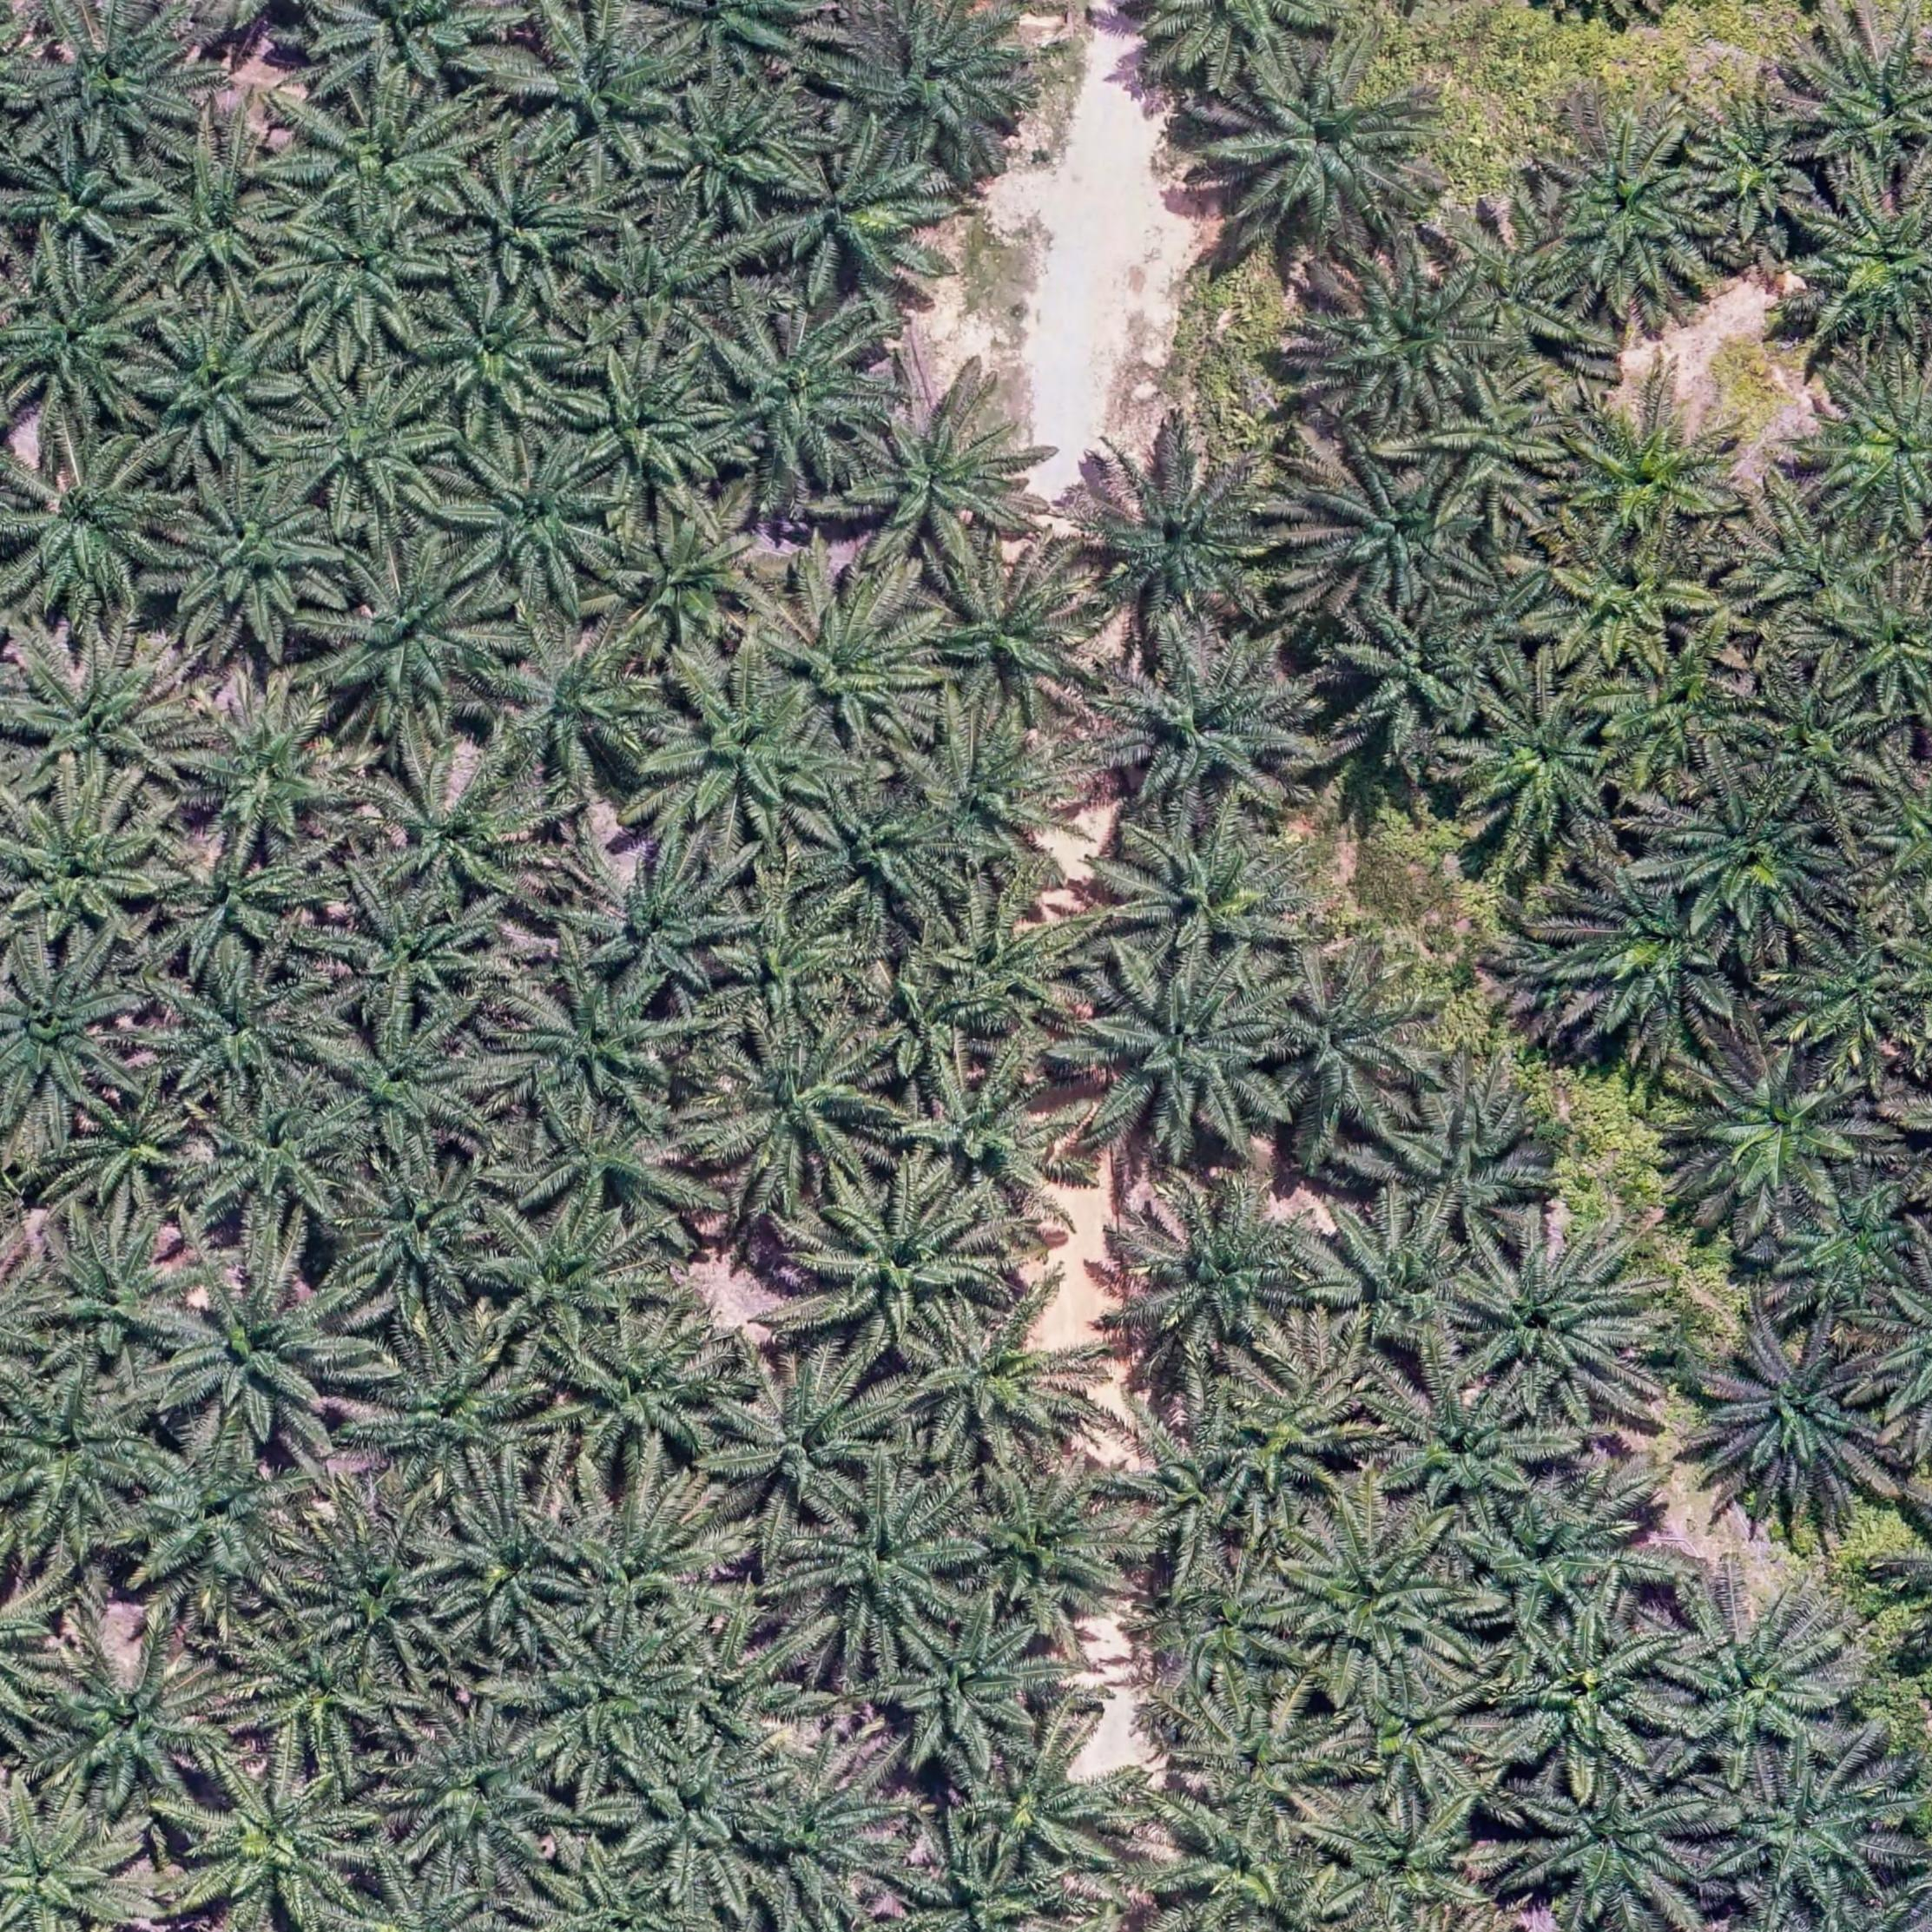palmtree: (1205, 37, 1440, 257), (1072, 957, 1293, 1168), (817, 373, 1037, 579), (1093, 635, 1320, 833), (1070, 444, 1293, 640), (1272, 1502, 1486, 1697), (695, 1012, 906, 1208), (793, 1171, 1001, 1368), (156, 1263, 364, 1458), (642, 662, 842, 858), (784, 1472, 985, 1667), (1652, 1585, 1854, 1780), (315, 545, 517, 738), (1132, 1180, 1339, 1368), (1453, 1226, 1656, 1415), (823, 4, 1040, 180), (35, 1626, 234, 1819), (1700, 1318, 1897, 1511), (895, 1293, 1102, 1474), (182, 1752, 389, 1930), (354, 1322, 550, 1507), (1486, 1606, 1684, 1789), (1683, 1040, 1881, 1221), (709, 306, 901, 492), (122, 1431, 318, 1610), (1709, 1750, 1913, 1920), (492, 964, 697, 1132), (548, 1307, 743, 1484), (1511, 1764, 1721, 1927), (718, 1350, 909, 1529), (1543, 119, 1721, 310), (497, 9, 692, 184), (895, 717, 1090, 892), (1555, 869, 1739, 1053), (380, 1707, 568, 1888), (1104, 814, 1307, 980), (9, 633, 200, 810), (1115, 1545, 1307, 1720), (1295, 448, 1497, 614), (1465, 1486, 1663, 1654), (918, 550, 1106, 727), (1546, 386, 1744, 552), (287, 1502, 471, 1681), (1378, 1081, 1562, 1260), (182, 681, 370, 856), (766, 575, 947, 755), (878, 1605, 1063, 1780), (1656, 775, 1844, 948), (1309, 255, 1499, 425), (957, 1723, 1145, 1893), (5, 441, 182, 619), (566, 842, 754, 1010), (892, 1056, 1079, 1224), (1263, 961, 1438, 1139), (1458, 679, 1637, 855), (159, 474, 345, 642), (0, 1371, 168, 1557), (21, 5, 211, 170), (957, 1468, 1143, 1635), (356, 748, 547, 909), (333, 1155, 515, 1323), (524, 1621, 706, 1787), (593, 497, 777, 662), (488, 625, 669, 791), (552, 1486, 738, 1647), (1177, 1690, 1357, 1854), (189, 1085, 372, 1247), (764, 140, 947, 301), (145, 959, 329, 1118), (1376, 1373, 1562, 1530), (134, 306, 306, 476), (317, 1007, 497, 1168), (287, 85, 483, 232), (1214, 1345, 1380, 1518), (322, 881, 510, 1033), (1325, 594, 1499, 759), (478, 1205, 658, 1362), (5, 786, 177, 950), (1311, 1203, 1484, 1366), (451, 441, 626, 602), (1536, 527, 1714, 685), (271, 198, 451, 354), (5, 258, 172, 426), (619, 1737, 787, 1904), (280, 370, 456, 527), (1138, 1790, 1334, 1932), (432, 1490, 596, 1658), (133, 133, 303, 295), (559, 350, 736, 506), (35, 1214, 205, 1375), (1313, 1790, 1506, 1932), (147, 826, 326, 978), (1594, 635, 1767, 791), (232, 1622, 409, 1775), (1323, 1658, 1502, 1808), (0, 948, 145, 1129), (653, 1621, 830, 1767), (927, 892, 1095, 1046), (798, 778, 962, 934), (747, 1755, 909, 1909), (649, 80, 826, 221), (1108, 1401, 1247, 1575), (517, 1099, 694, 1235), (580, 219, 752, 359), (1776, 1175, 1932, 1327), (1737, 669, 1895, 819), (419, 281, 582, 426), (1805, 363, 1932, 543), (311, 0, 517, 111), (449, 159, 610, 299), (1442, 226, 1594, 373), (711, 895, 865, 1040), (1806, 180, 1932, 352), (1683, 94, 1829, 239), (1799, 25, 1932, 184), (1778, 924, 1923, 1067), (1431, 372, 1575, 517), (64, 1085, 209, 1223), (0, 1798, 147, 1932), (11, 142, 157, 271), (1736, 506, 1893, 626), (890, 1833, 1074, 1932), (1831, 571, 1932, 732), (525, 1844, 708, 1932)
